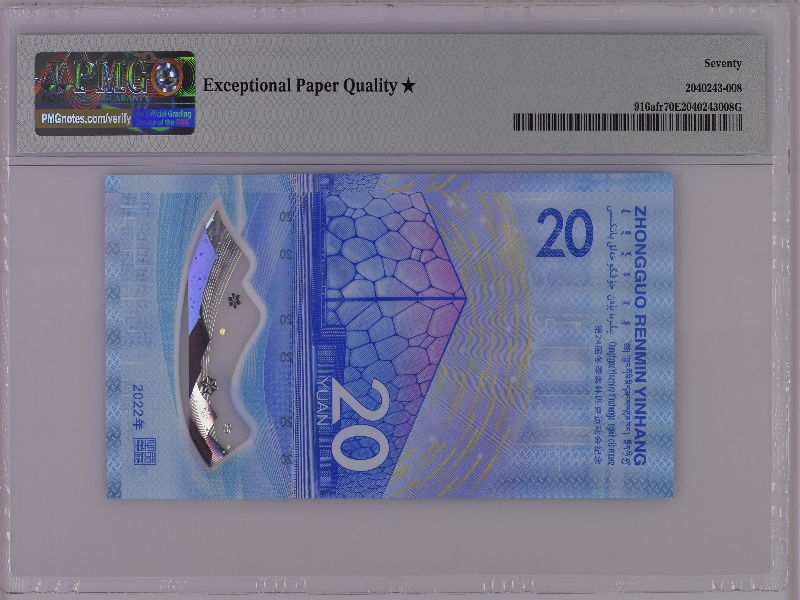papernote: (101, 173, 674, 498)
